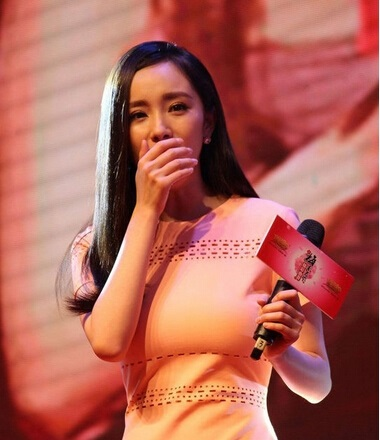face: (126, 62, 202, 178)
